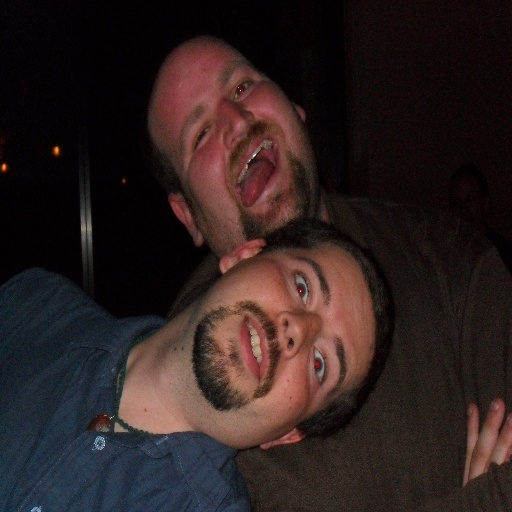hand: (462, 398, 511, 486)
